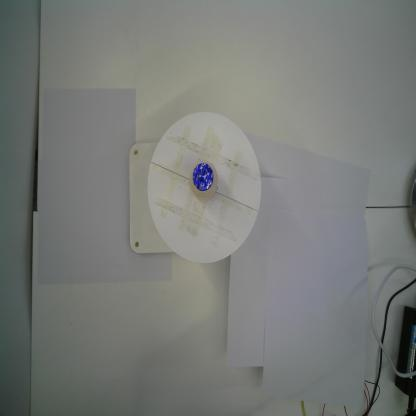Milk: (189, 160, 219, 202)
